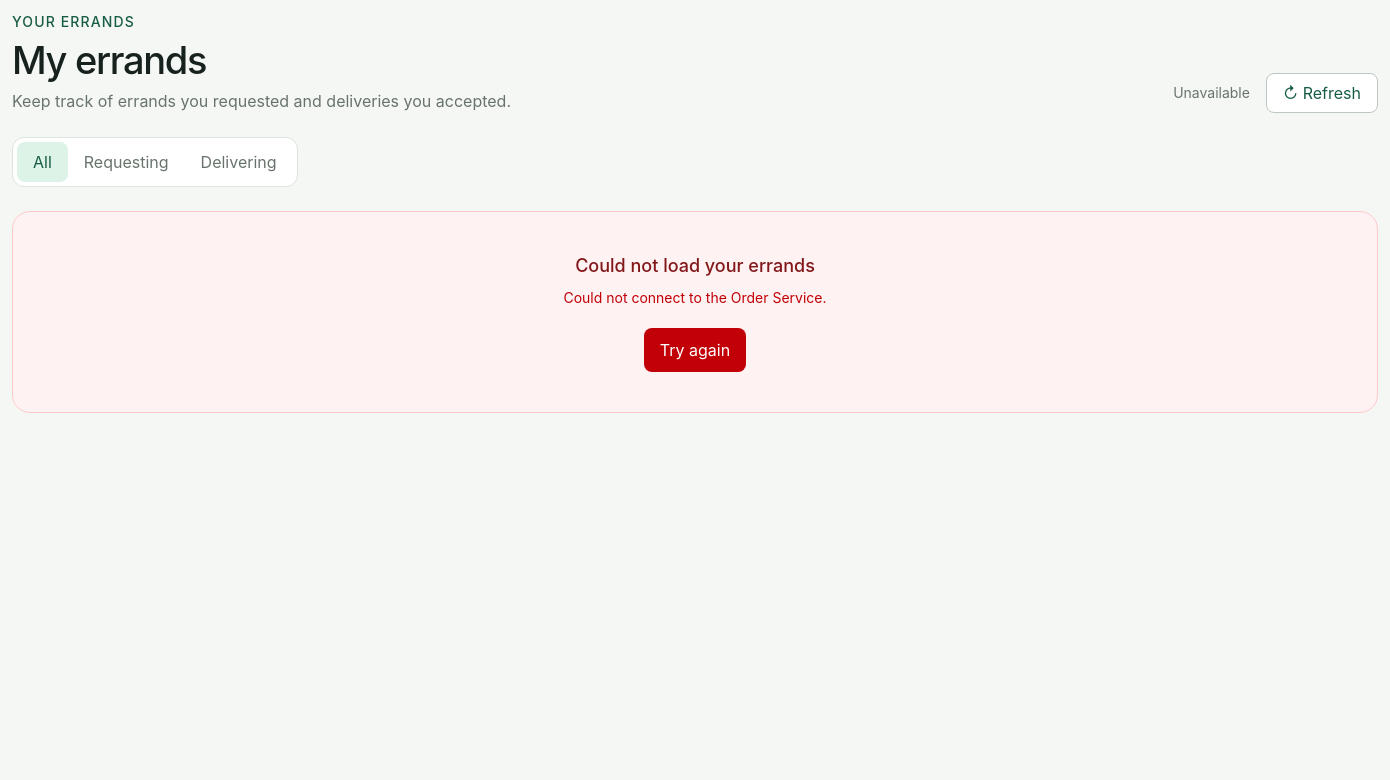
MyErrandsPage › shows a service error and retries
Expected: the message shows "Could not connect to the Order Service.", [563,289,826,306]
Click the button "Try again" at (695, 350), box [644,328,746,372]
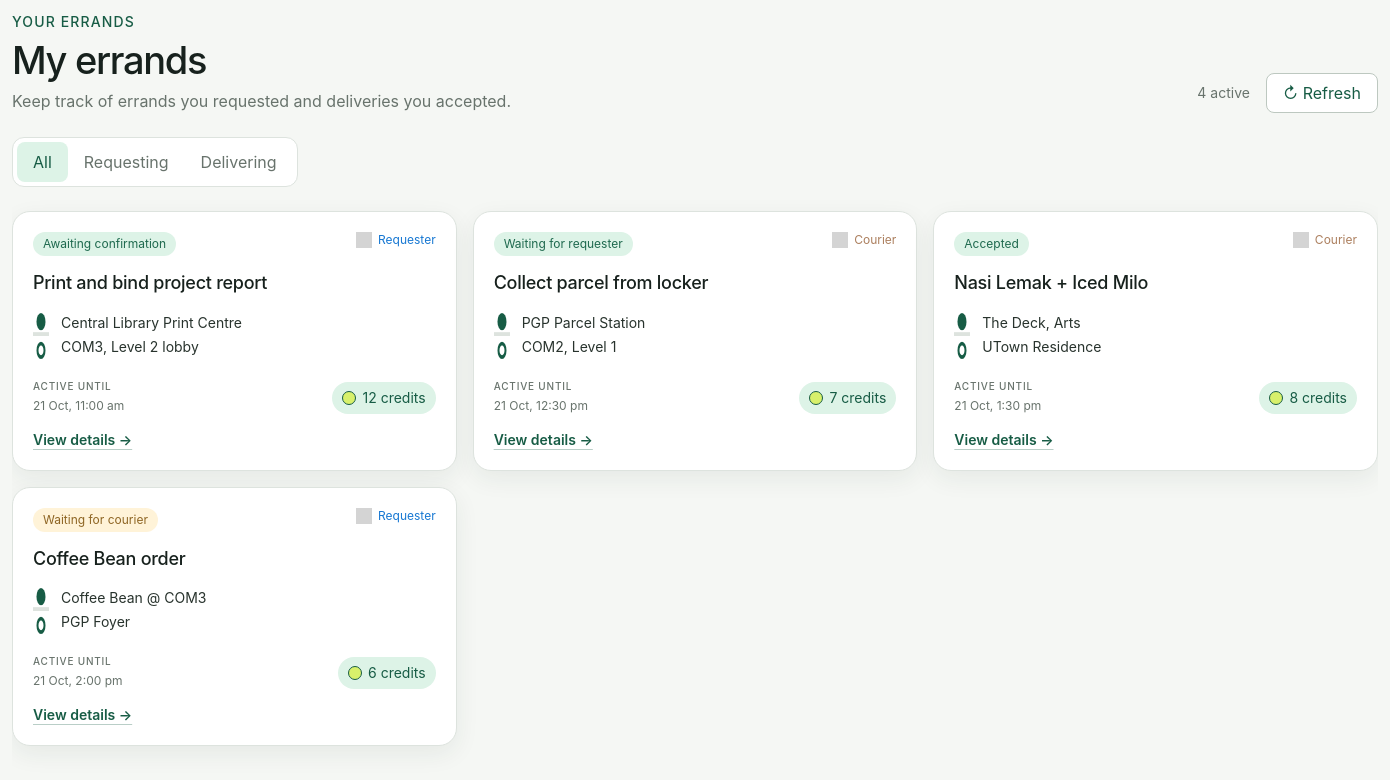
Expected: the text "4 active" is shown, [1197,83,1250,103]
